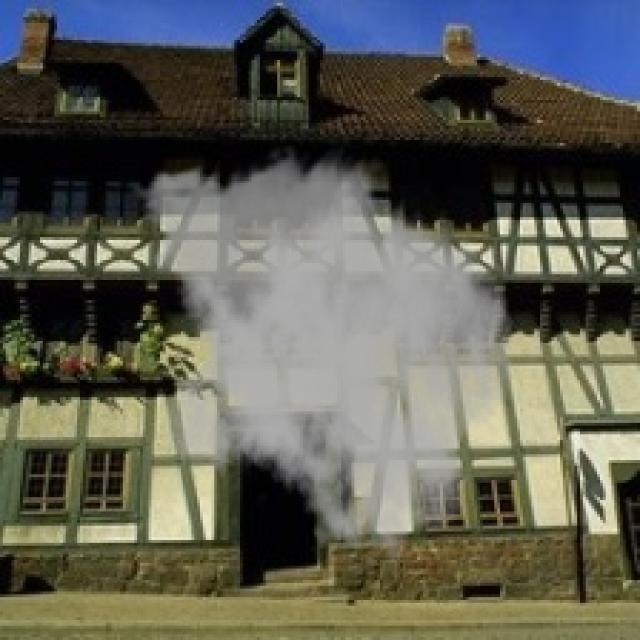Smoke: (126, 143, 514, 566)
